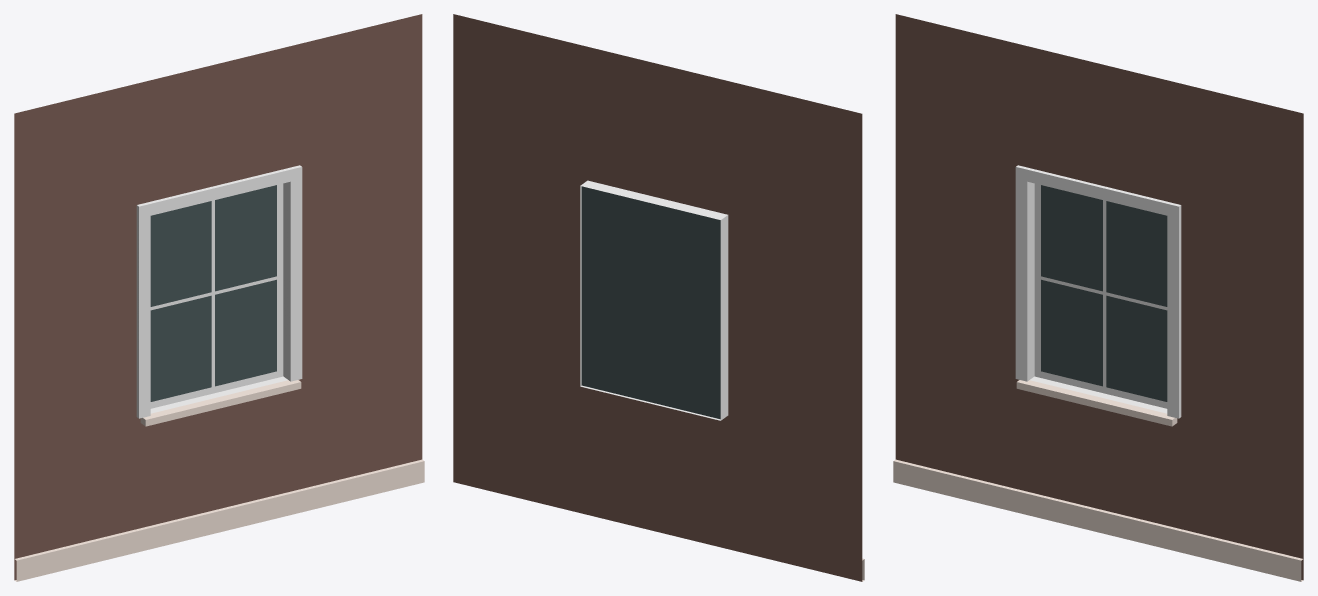
File: top-w3.fbx
The picture shows the model from 3 angles, left to right: view 1: azimuth 30°, elevation 25°; view 2: azimuth 150°, elevation 25°; view 3: azimuth 330°, elevation 25°; orthographic projection.
Parts seen in each view (by area): view 1: a2000s2/800/top-w3; view 2: a2000s2/800/top-w3; view 3: a2000s2/800/top-w3.
Boxes of the visible parts, x1,y1,x2,y2 form: a2000s2/800/top-w3: (14,14,424,581); a2000s2/800/top-w3: (453,14,864,581); a2000s2/800/top-w3: (893,14,1303,581).
Size of the model in its own units: 3.2 by 3.5 by 0.17.
